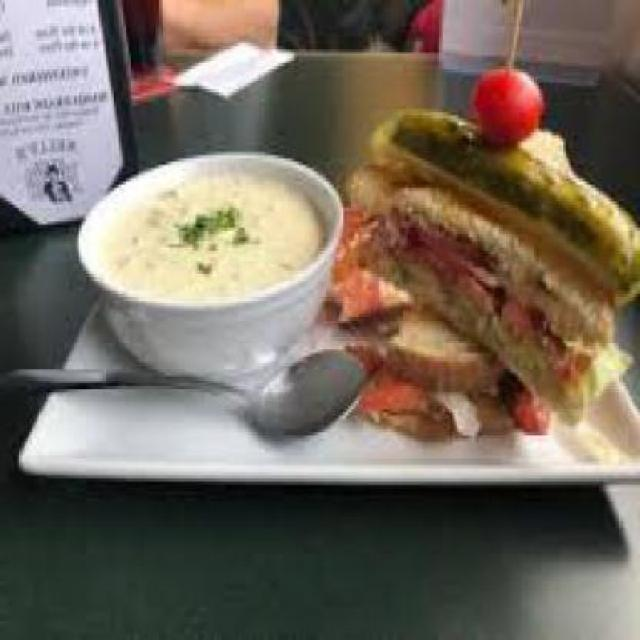clam chowder: (74, 138, 343, 380)
club sandwich: (333, 82, 638, 466)
